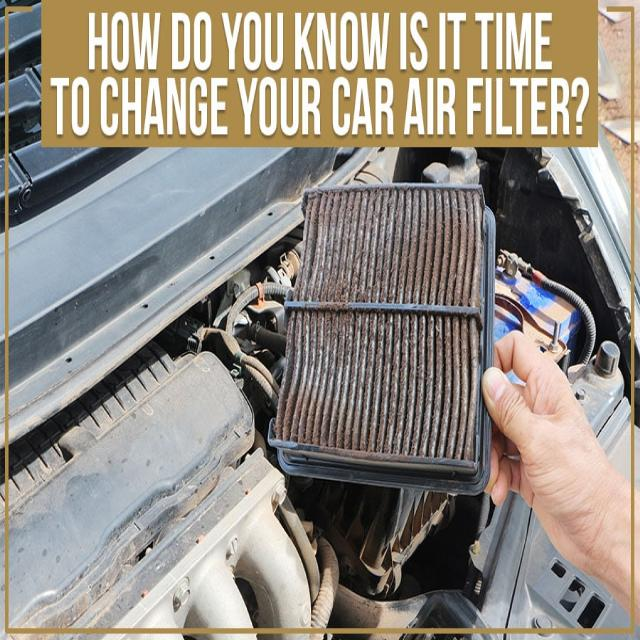air_filter: (277, 180, 488, 472)
